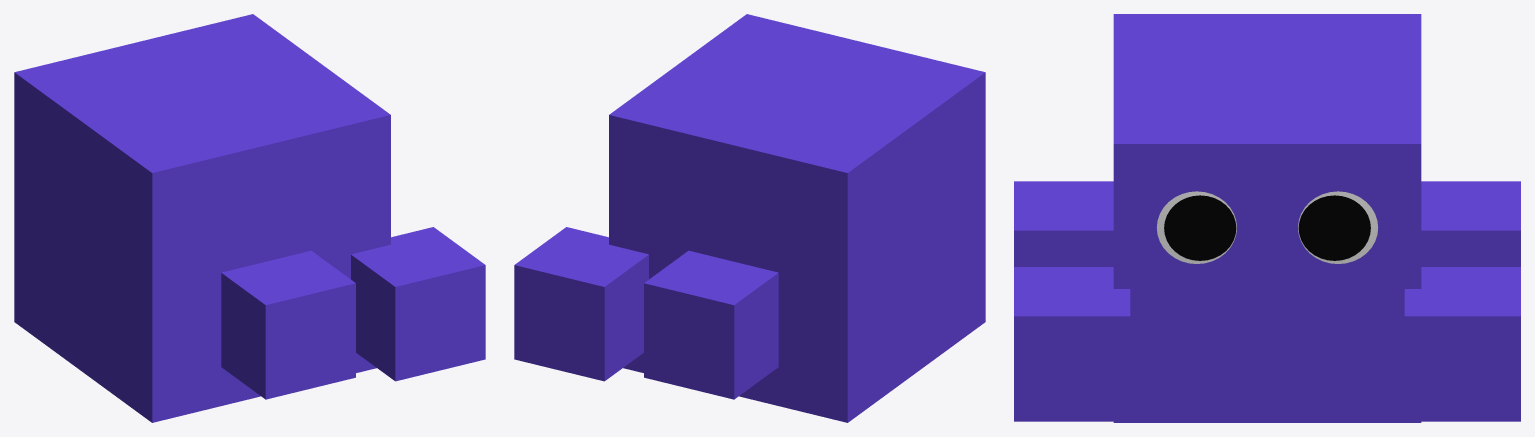
File: cubic.fbx
The picture shows the model from 3 angles, left to right: view 1: azimuth 30°, elevation 25°; view 2: azimuth 150°, elevation 25°; view 3: azimuth 270°, elevation 25°; orthographic projection. The views are drawn at different scales.
Parts seen in each view (by area): view 1: Cube, Cube.004, Cube.002; view 2: Cube, Cube.001, Cube.003; view 3: Cube, Cube.002, Cube.003, Cube.001, Cube.004, 円柱.001, 円柱.002, 円柱, 円柱.003.
Part boxes in pixels (box(x1,y1,x2,y2)): Cube: box(14, 14, 390, 422); Cube.004: box(221, 250, 355, 399); Cube.002: box(351, 227, 485, 381); Cube: box(609, 14, 985, 422); Cube.001: box(644, 250, 778, 399); Cube.003: box(514, 227, 648, 381); Cube: box(1113, 14, 1421, 422); Cube.002: box(1014, 267, 1130, 421); Cube.003: box(1404, 267, 1520, 421); Cube.001: box(1421, 181, 1520, 266); Cube.004: box(1014, 181, 1113, 266); 円柱.001: box(1164, 195, 1236, 260); 円柱.002: box(1298, 195, 1370, 260); 円柱: box(1156, 191, 1236, 263); 円柱.003: box(1298, 191, 1378, 263).
Bounding box in the file's own units: 242 × 200 × 329.
